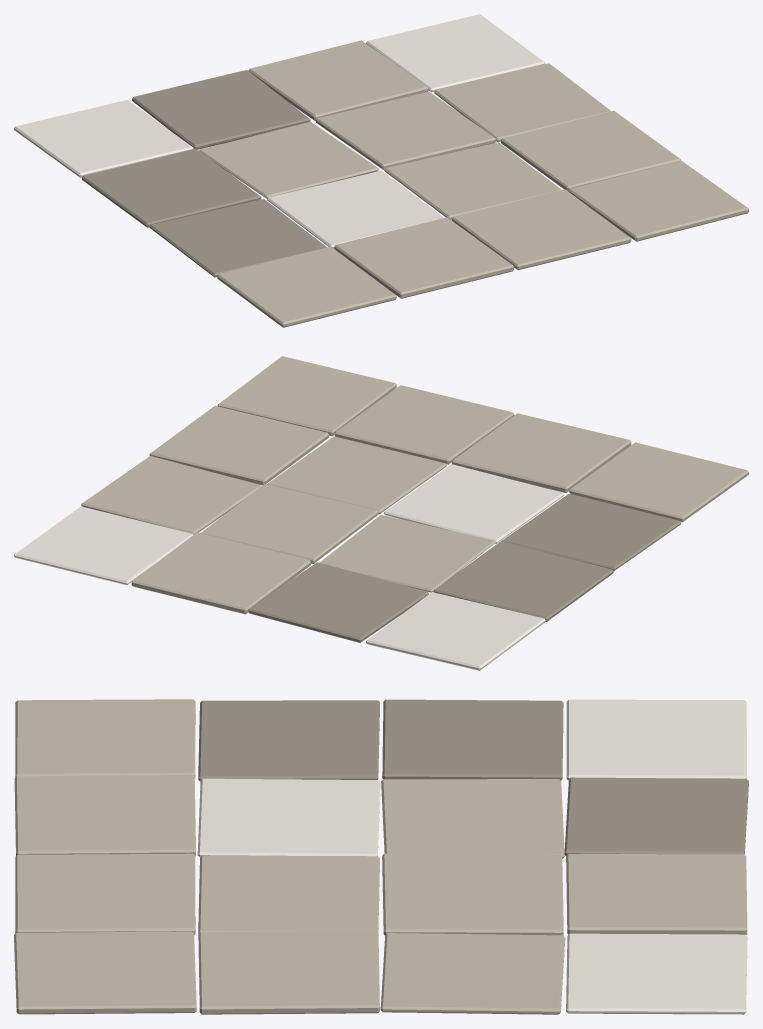
Rendered from TC_ENV_CourtPaving_V1.gltf.
The picture shows the model from 3 angles, top to bottom: view 1: azimuth 30°, elevation 25°; view 2: azimuth 150°, elevation 25°; view 3: azimuth 270°, elevation 25°; orthographic projection. The views are drawn at different scales.
Parts seen in each view (by area): view 1: TC_Paving_1_0, TC_Paving_0_0, TC_Paving_3_0, TC_Paving_2_0, TC_Paving_1_3, TC_Paving_2_3, TC_Paving_3_1, TC_Paving_2_2, TC_Paving_0_2, TC_Paving_0_3, TC_Paving_3_3, TC_Paving_1_2 (+4 smaller); view 2: TC_Paving_2_3, TC_Paving_1_0, TC_Paving_1_3, TC_Paving_0_0, TC_Paving_3_1, TC_Paving_0_3, TC_Paving_2_0, TC_Paving_0_2, TC_Paving_3_0, TC_Paving_3_2, TC_Paving_3_3, TC_Paving_1_1 (+4 smaller); view 3: TC_Paving_3_1, TC_Paving_3_0, TC_Paving_2_2, TC_Paving_3_3, TC_Paving_2_3, TC_Paving_3_2, TC_Paving_0_2, TC_Paving_0_1, TC_Paving_1_0, TC_Paving_0_3, TC_Paving_2_0, TC_Paving_1_1 (+4 smaller).
Part boxes in pixels (x1,y1,x2,y2): TC_Paving_1_0: [334, 217, 514, 298]; TC_Paving_0_0: [217, 246, 396, 327]; TC_Paving_3_0: [568, 160, 748, 241]; TC_Paving_2_0: [451, 189, 631, 270]; TC_Paving_1_3: [132, 70, 310, 149]; TC_Paving_2_3: [248, 40, 428, 121]; TC_Paving_3_1: [501, 110, 680, 191]; TC_Paving_2_2: [316, 91, 495, 169]; TC_Paving_0_2: [82, 148, 261, 227]; TC_Paving_0_3: [14, 100, 193, 177]; TC_Paving_3_3: [366, 14, 545, 92]; TC_Paving_1_2: [199, 121, 378, 198]; TC_Paving_2_3: [131, 532, 310, 614]; TC_Paving_1_0: [452, 413, 631, 492]; TC_Paving_1_3: [248, 562, 428, 642]; TC_Paving_0_0: [569, 442, 748, 522]; TC_Paving_3_1: [149, 405, 328, 485]; TC_Paving_0_3: [366, 592, 545, 670]; TC_Paving_2_0: [334, 385, 514, 464]; TC_Paving_0_2: [433, 541, 613, 621]; TC_Paving_3_0: [217, 356, 396, 436]; TC_Paving_3_2: [81, 456, 261, 534]; TC_Paving_3_3: [14, 506, 193, 585]; TC_Paving_1_1: [384, 464, 564, 543]; TC_Paving_3_1: [198, 931, 379, 1014]; TC_Paving_3_0: [14, 931, 196, 1014]; TC_Paving_2_2: [382, 853, 563, 935]; TC_Paving_3_3: [566, 933, 747, 1014]; TC_Paving_2_3: [566, 854, 747, 934]; TC_Paving_3_2: [380, 933, 565, 1014]; TC_Paving_0_2: [382, 699, 563, 780]; TC_Paving_0_1: [198, 700, 379, 781]; TC_Paving_1_0: [14, 775, 195, 856]; TC_Paving_0_3: [566, 699, 746, 780]; TC_Paving_2_0: [15, 853, 195, 934]; TC_Paving_1_1: [197, 778, 380, 856].
Bounding box in the file's own units: 4 × 0.0641 × 4.
